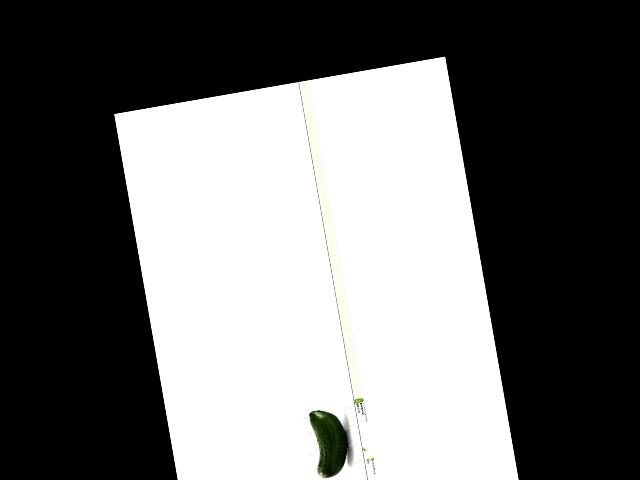cucumber: (308, 406, 353, 479)
